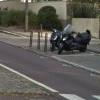Motorcycle: (44, 23, 93, 58)
